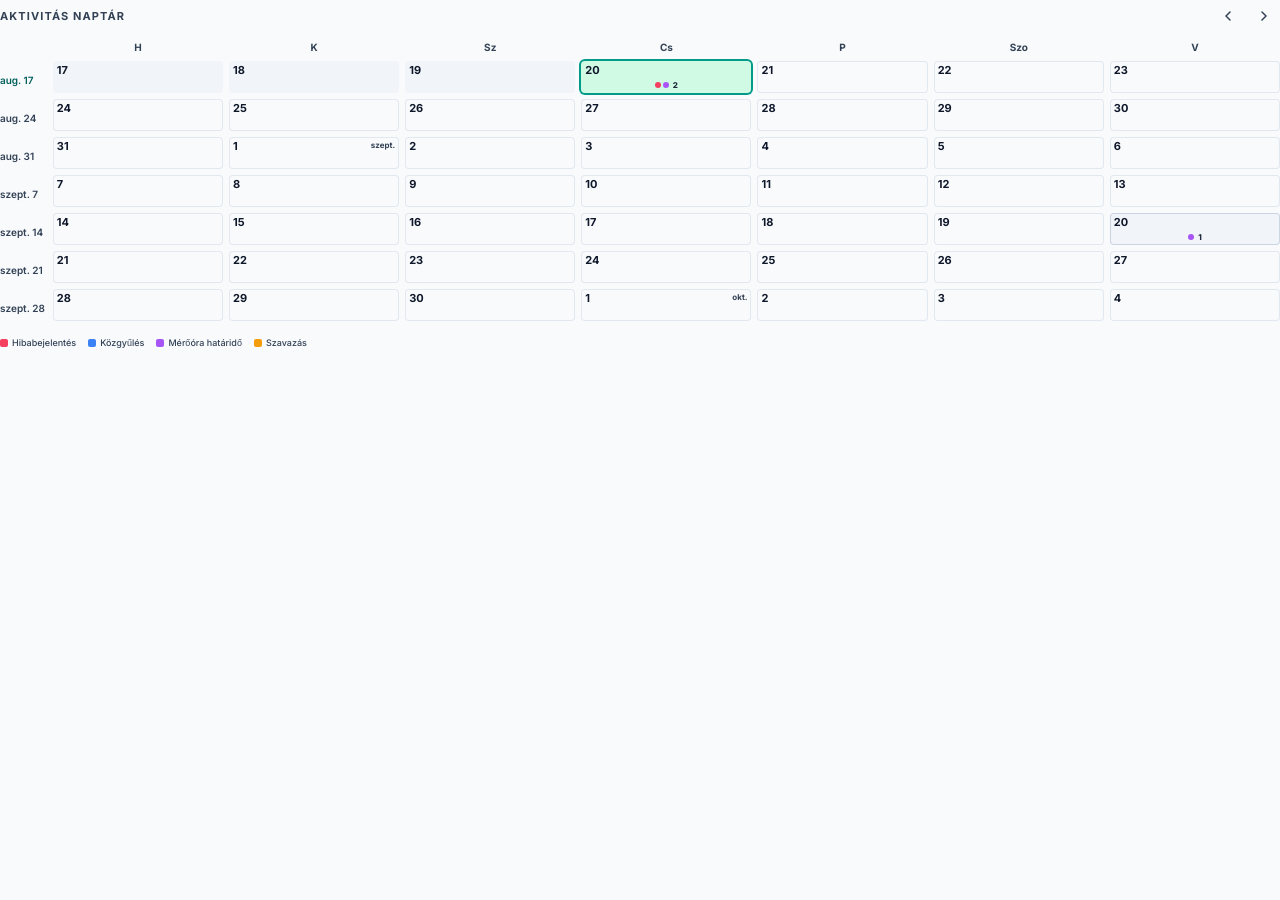
Test: ActivityCalendar SSR stability › opens details by keyboard and click, closes with Escape, and returns focus
The width and height of the screenshot is (1280, 900).
Press Enter in the button "20 2", box top-left (581, 61), bottom-right (752, 93)
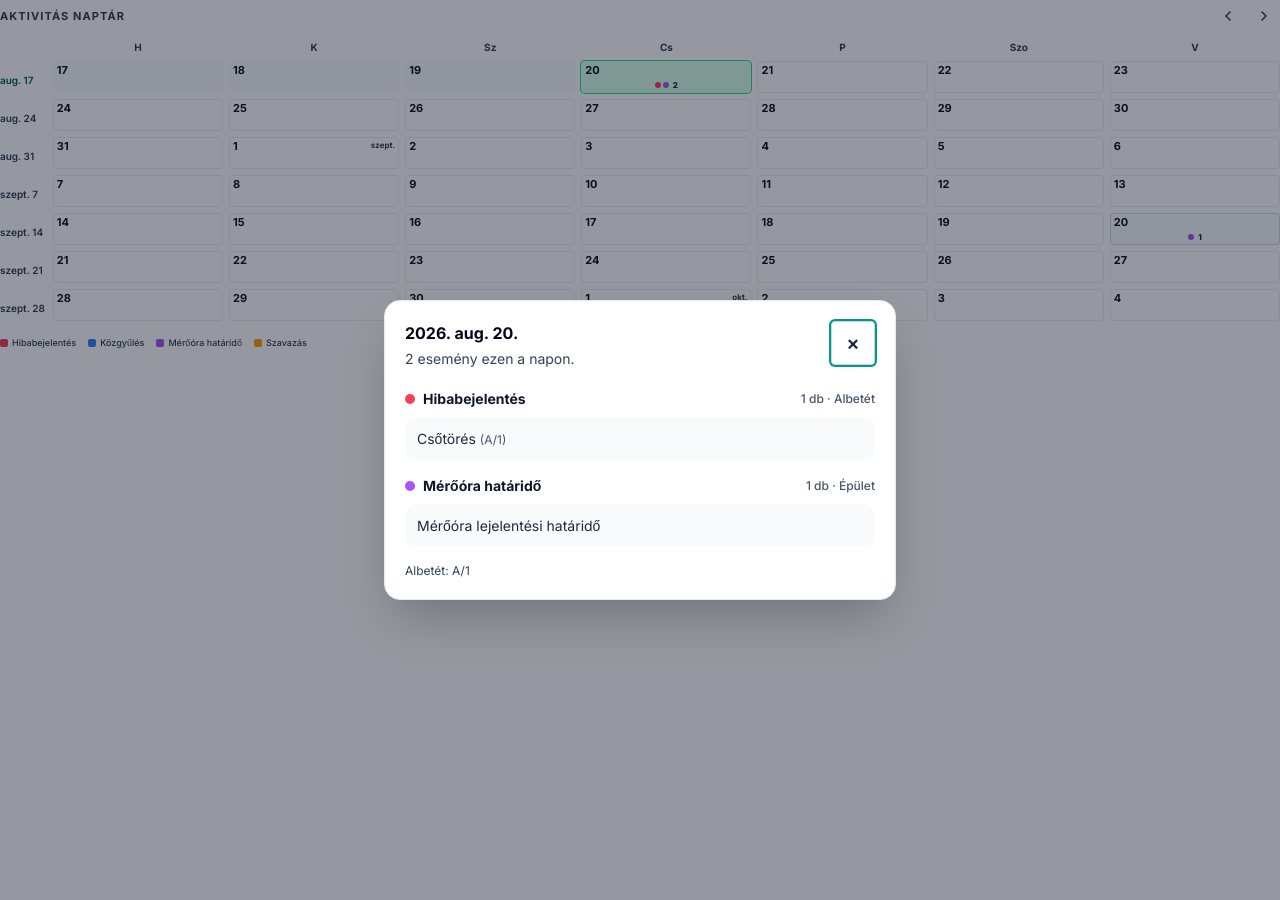
Press Escape
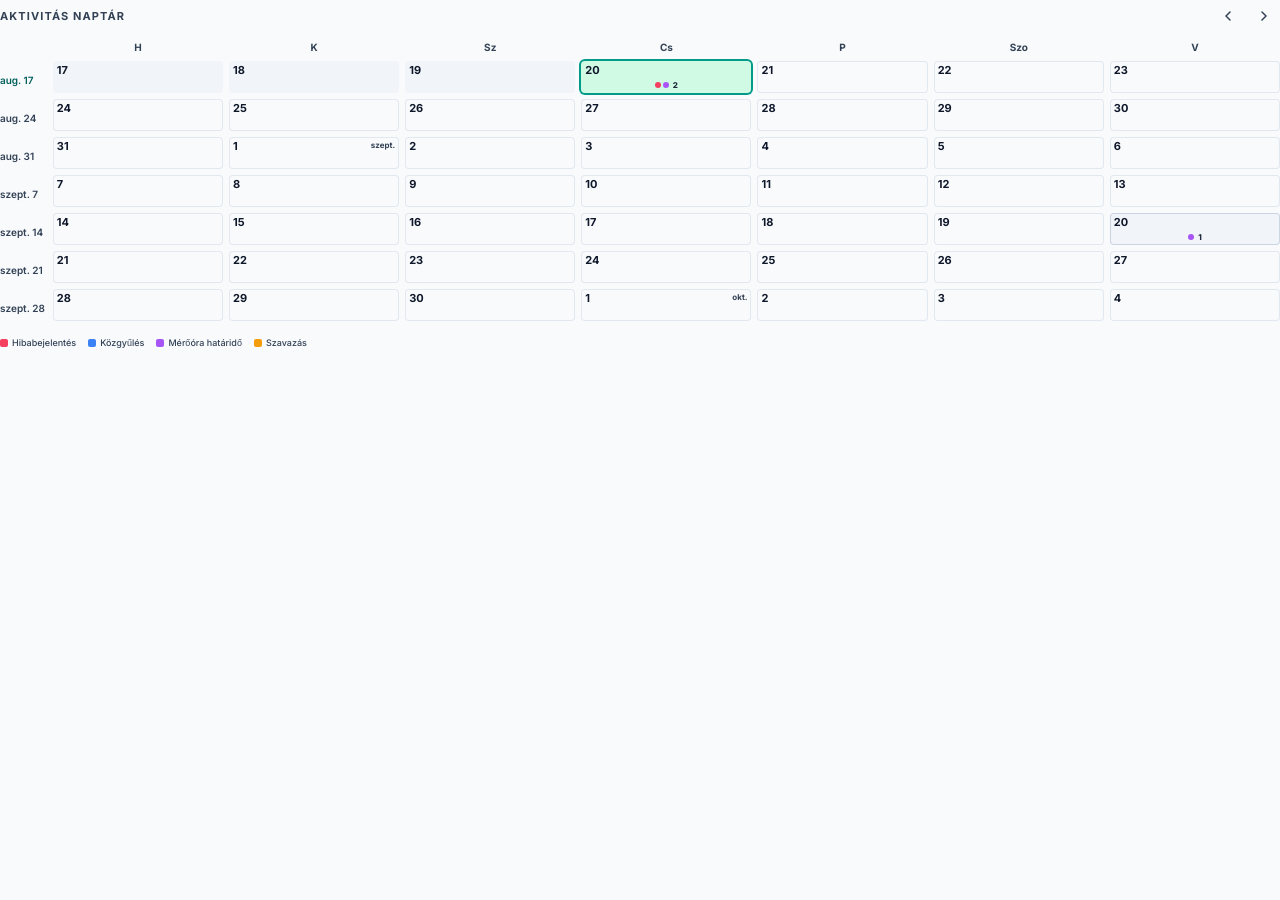
Now the dialog is gone
Click the button "20 2" at (666, 77), box top-left (581, 61), bottom-right (752, 93)
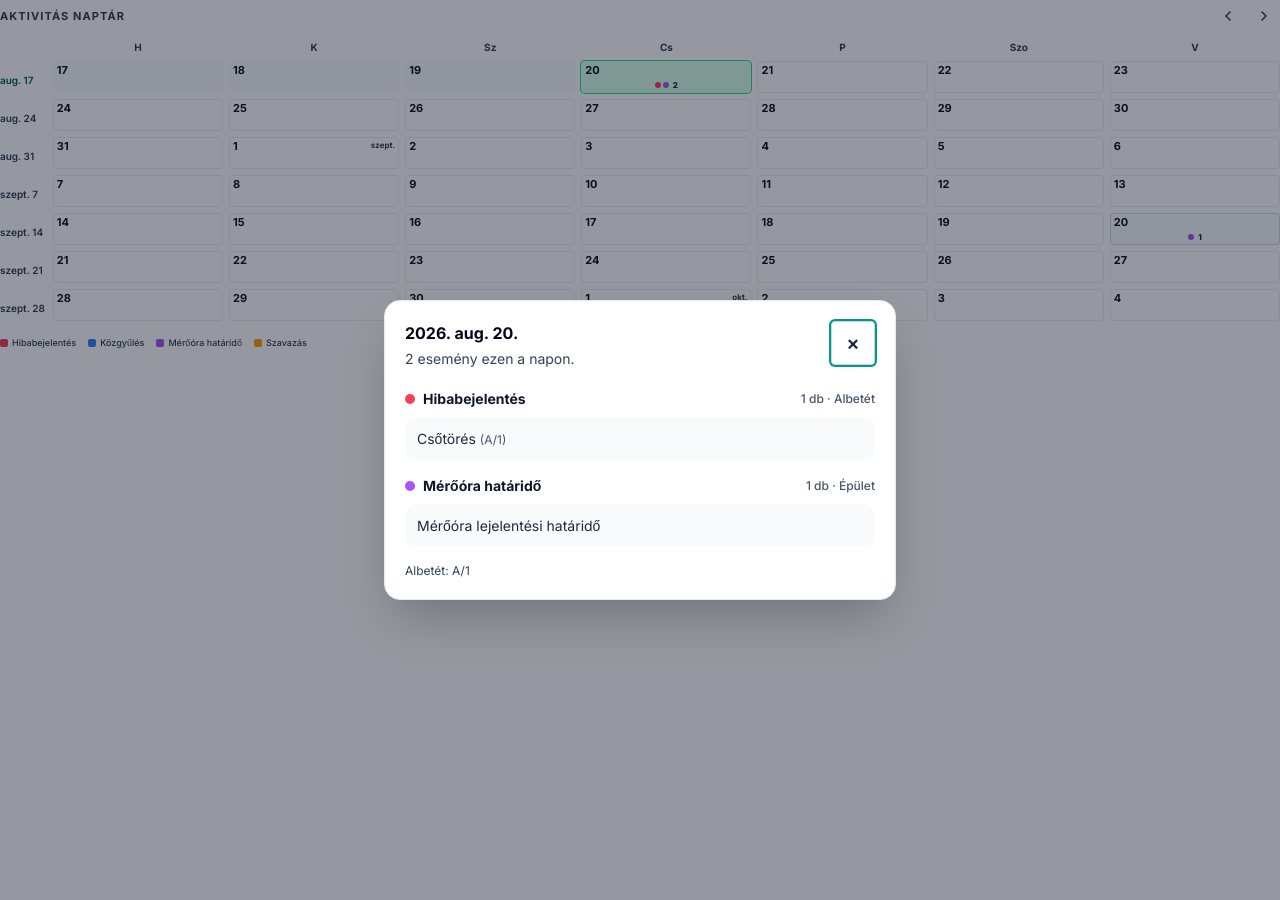
Now the dialog is shown, box top-left (384, 300), bottom-right (896, 600)
Click the button named "Bezárás" at (853, 343), box top-left (831, 321), bottom-right (875, 365)
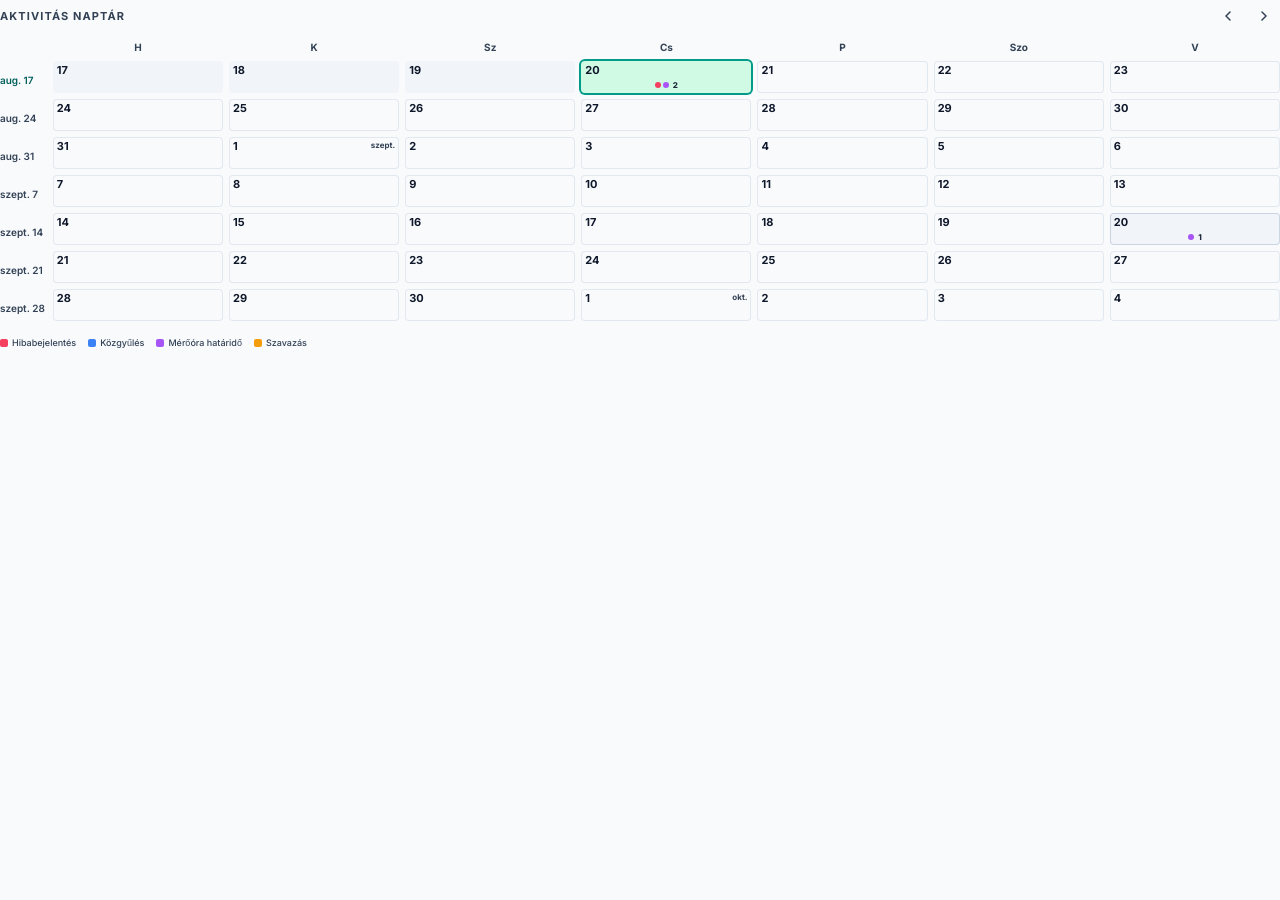
Now the dialog is gone
